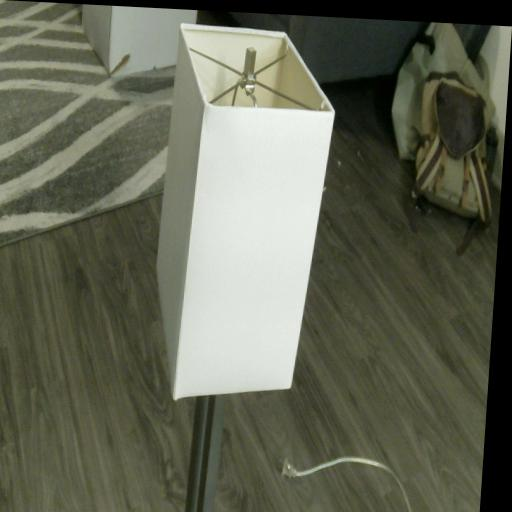lamp: (137, 22, 340, 512)
